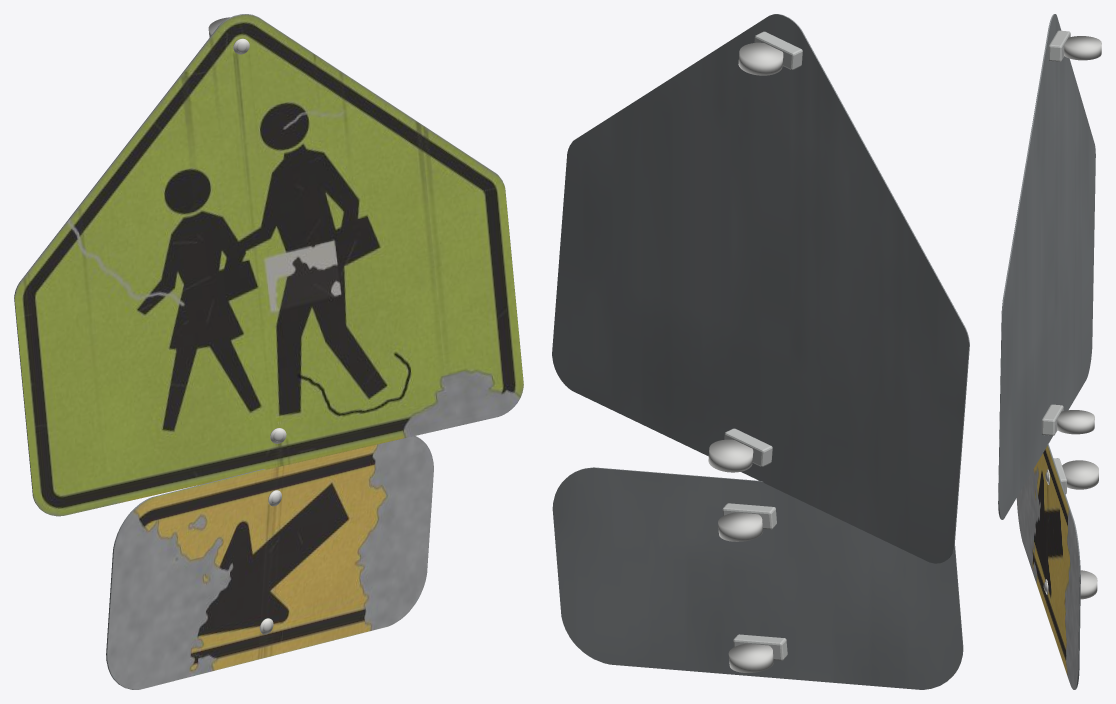
The model's file is school-v1-battered.glb.
3 views of the same model, side by side, from view 1: azimuth 30°, elevation 25°; view 2: azimuth 150°, elevation 25°; view 3: azimuth 270°, elevation 25° (orthographic). The views are drawn at different scales.
Visible parts, largest first — view 1: school-v1-battered; view 2: school-v1-battered; view 3: school-v1-battered.
Part boxes in pixels (left/top/right/bottom): school-v1-battered: left=14, top=14, right=523, bottom=689; school-v1-battered: left=552, top=14, right=969, bottom=689; school-v1-battered: left=998, top=14, right=1101, bottom=689.
Size of the model in its own units: 0.7728 by 1.06 by 0.1669.
Materials: 1 (1 with a texture image).
